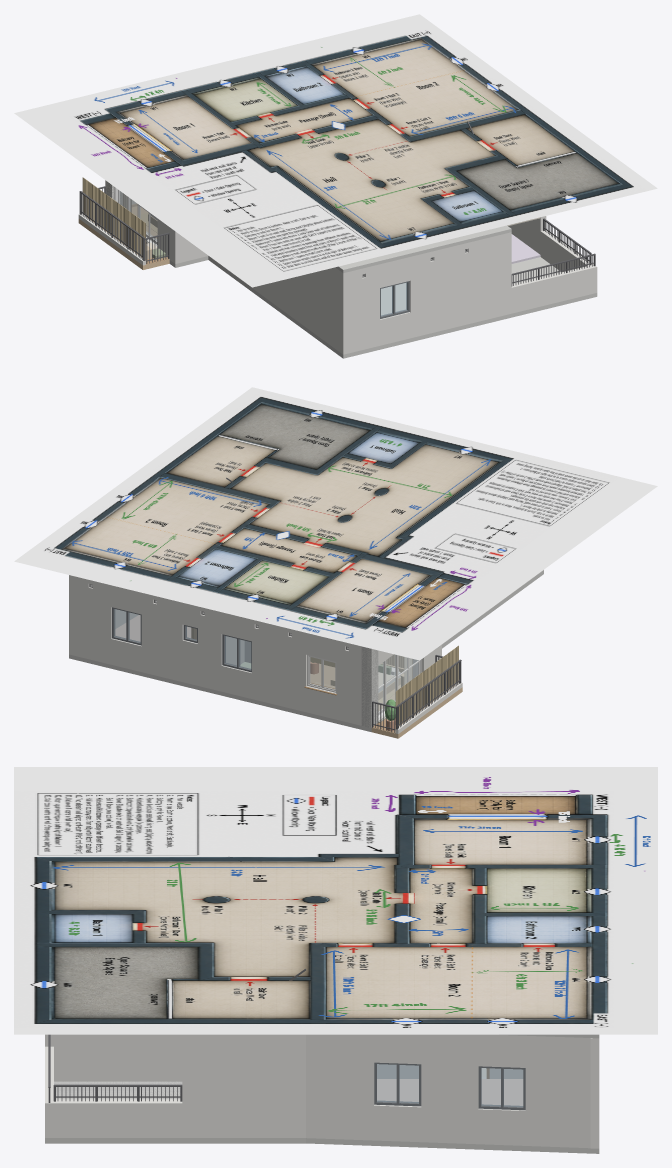
The model's file is MyFlat_V1_1_Room1_OPTION_A.glb.
The picture shows the model from 3 angles, top to bottom: view 1: azimuth 30°, elevation 25°; view 2: azimuth 150°, elevation 25°; view 3: azimuth 270°, elevation 25°; orthographic projection. The views are drawn at different scales.
Visible parts, largest first — view 1: PLAN_REFERENCE_OVERLAY, WALL_EXT_S_HALL, WALL_EXT_W_HALL, SLAB_FLOOR_STRUCTURAL, PARAPET_OPENSQ_S, R1_OPA_BALCONY_BAMBOO_SCREEN, BALCONY_RAILING_W, SLAB_ROOF, PARAPET_OPENSQ_E, WALL_EXT_W_R1_BALCONY, RAILING_OPENSQ_S, WALL_EXT_E_STAIR (+4 smaller); view 2: PLAN_REFERENCE_OVERLAY, WALL_EXT_N_R2, WALL_EXT_N_R1, WALL_EXT_N_KIT, WALL_EXT_N_B2, R1_OPA_BALCONY_BAMBOO_SCREEN, SLAB_FLOOR_STRUCTURAL, BALCONY_RAILING_W, PILLAR_R1_NW, WALL_EXT_W_R1_BALCONY, WALL_EXT_E_R2_TAPERED, WINDOW_W4_GLASS (+1 smaller); view 3: PLAN_REFERENCE_OVERLAY, WALL_EXT_E_R2_TAPERED, WALL_EXT_E_STAIR, WALL_INT_OPENSQ_W, PARAPET_OPENSQ_E, SLAB_FLOOR_STRUCTURAL, FLOOR_R2, WINDOW_W5_GLASS, FLOOR_OPENSQ, WINDOW_W6_GLASS, RAILING_OPENSQ_E, WALL_EXT_N_R2 (+4 smaller).
Boxes of the visible parts, x1,y1,x2,y2 form: PLAN_REFERENCE_OVERLAY: (14,14,657,287); WALL_EXT_S_HALL: (340,232,511,354); WALL_EXT_W_HALL: (209,256,348,354); SLAB_FLOOR_STRUCTURAL: (169,256,597,358); PARAPET_OPENSQ_S: (511,264,597,313); R1_OPA_BALCONY_BAMBOO_SCREEN: (82,177,145,259); BALCONY_RAILING_W: (79,191,144,260); SLAB_ROOF: (335,225,511,273); PARAPET_OPENSQ_E: (540,230,593,272); WALL_EXT_W_R1_BALCONY: (107,184,184,263); RAILING_OPENSQ_S: (511,253,595,286); WALL_EXT_E_STAIR: (508,216,546,254); PLAN_REFERENCE_OVERLAY: (14,387,657,660); WALL_EXT_N_R2: (69,575,171,679); WALL_EXT_N_R1: (265,623,372,727); WALL_EXT_N_KIT: (208,609,264,701); WALL_EXT_N_B2: (172,600,208,688); R1_OPA_BALCONY_BAMBOO_SCREEN: (395,645,458,725); SLAB_FLOOR_STRUCTURAL: (69,570,543,731); BALCONY_RAILING_W: (396,659,461,729); PILLAR_R1_NW: (361,646,378,727); WALL_EXT_W_R1_BALCONY: (362,647,438,727); WALL_EXT_E_R2_TAPERED: (69,575,138,655); WINDOW_W4_GLASS: (114,609,140,642); PLAN_REFERENCE_OVERLAY: (14,767,657,1034); WALL_EXT_E_R2_TAPERED: (306,1034,590,1148); WALL_EXT_E_STAIR: (182,1034,305,1137); WALL_INT_OPENSQ_W: (54,1034,182,1081); PARAPET_OPENSQ_E: (54,1099,182,1137); SLAB_FLOOR_STRUCTURAL: (45,1081,599,1153); FLOOR_R2: (377,1079,523,1105); WINDOW_W5_GLASS: (481,1068,523,1106); FLOOR_OPENSQ: (54,1081,182,1099); WINDOW_W6_GLASS: (377,1064,418,1103); RAILING_OPENSQ_E: (53,1084,182,1101); WALL_EXT_N_R2: (590,1038,599,1148).
Size of what is drawn, in the model's own units: 16.28 by 4.33 by 16.55.
46 materials, 1 textured.
